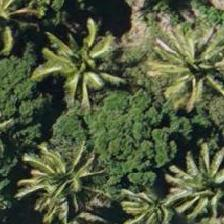coconut_tree: (34, 18, 124, 108), (0, 140, 86, 223), (158, 19, 223, 109), (157, 139, 223, 223), (0, 0, 45, 48)
